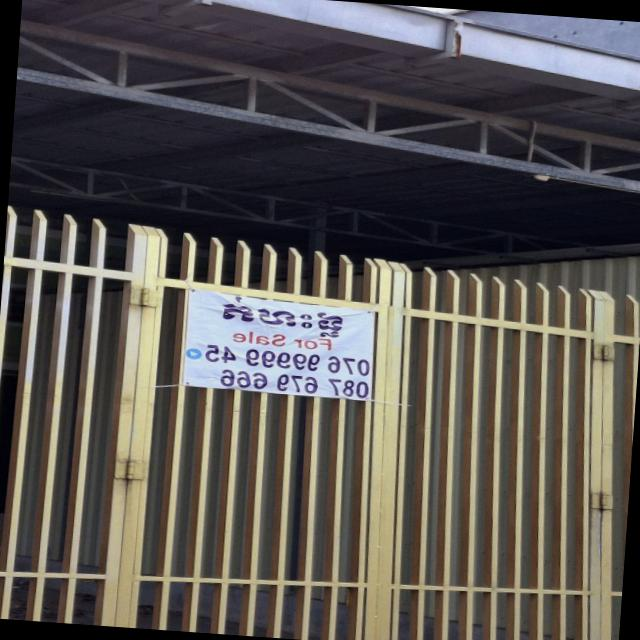Yolov11kh: (201, 290, 354, 343)
